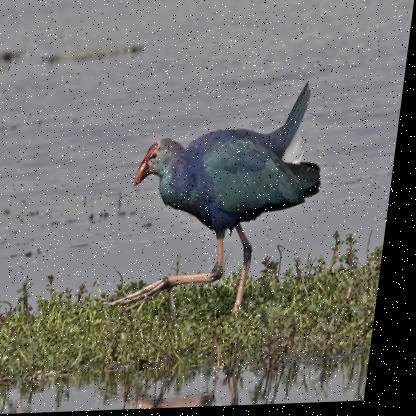Burung: (106, 82, 337, 338)
